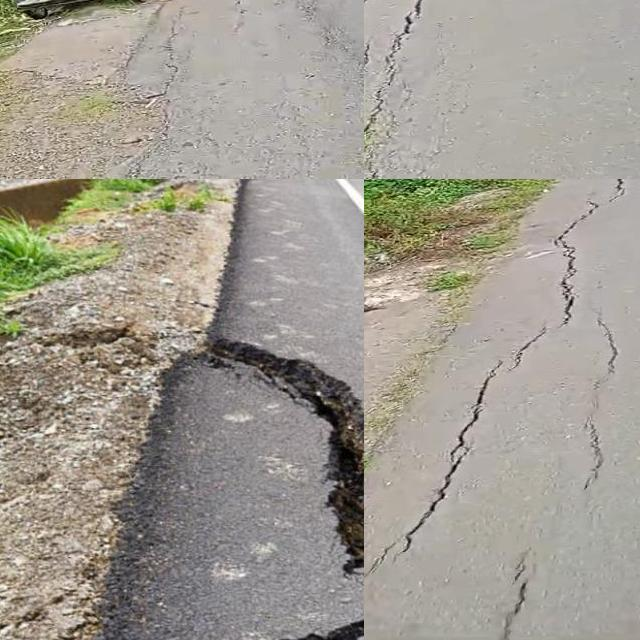Memanjang: (364, 179, 640, 618), (364, 0, 437, 179)
Pinggir: (58, 296, 364, 640), (364, 179, 566, 507), (48, 0, 210, 179)
